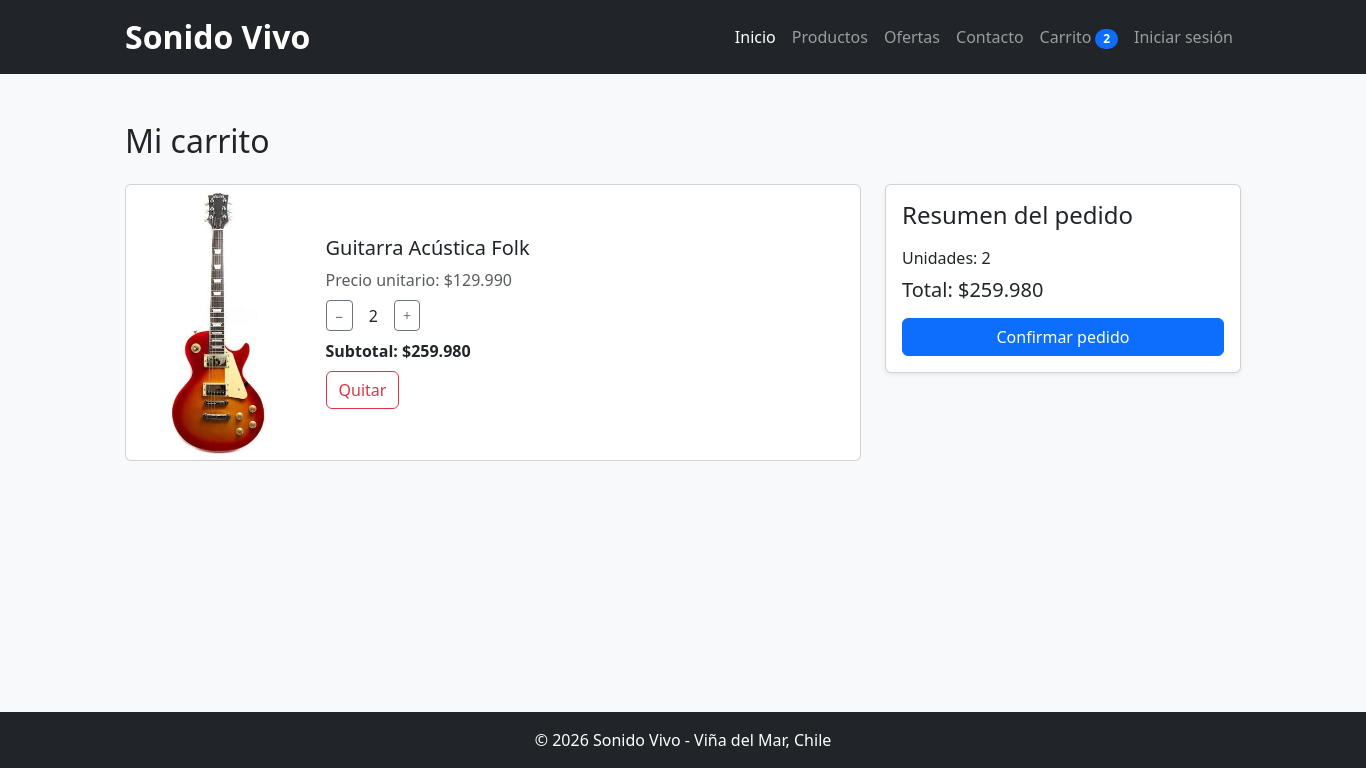
CartPage › baja la cantidad y deshabilita el botón al llegar a 1
The image size is (1366, 768).
Step 1. Click the button named "Disminuir cantidad de Guitarra Acústica Folk" → click(339, 316), box [326,300,353,331]
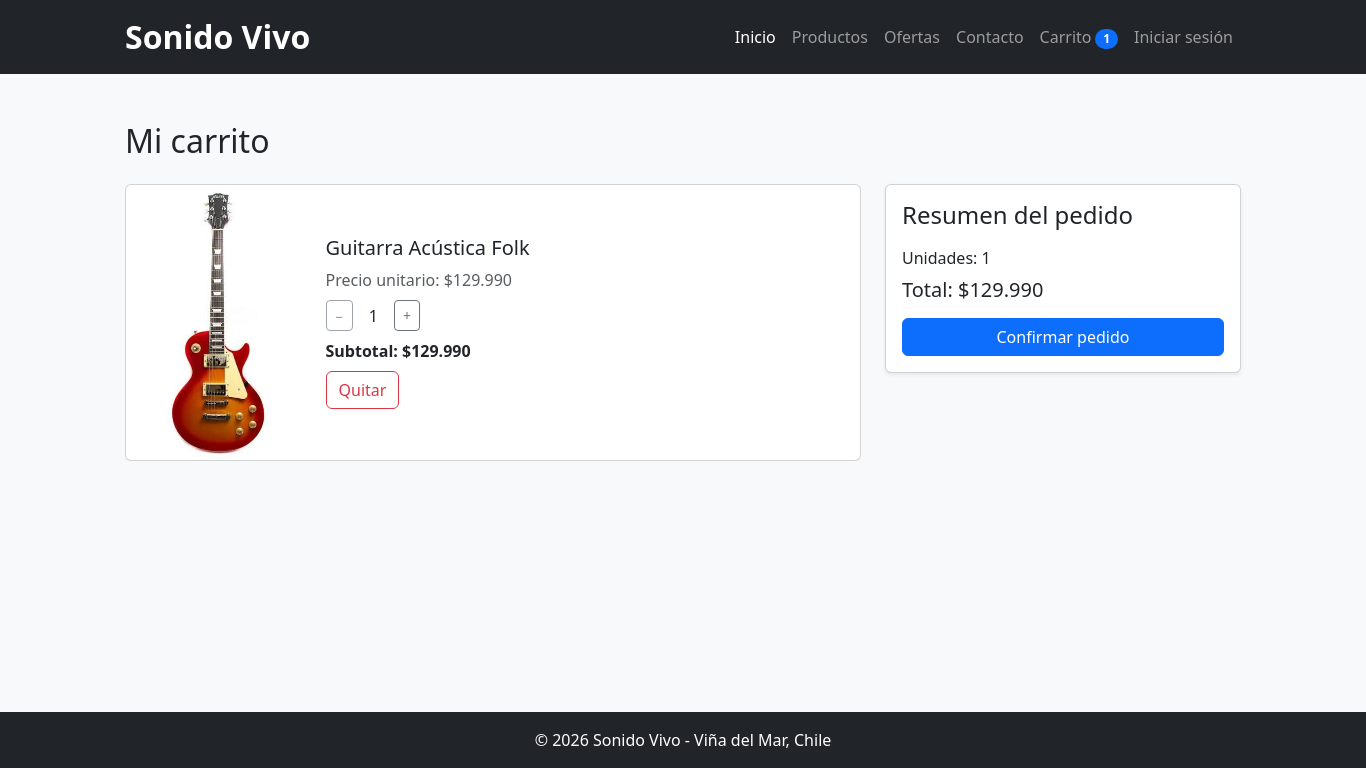
Result: the text "Total: $129.990" is shown at [902,276,1043,303]
